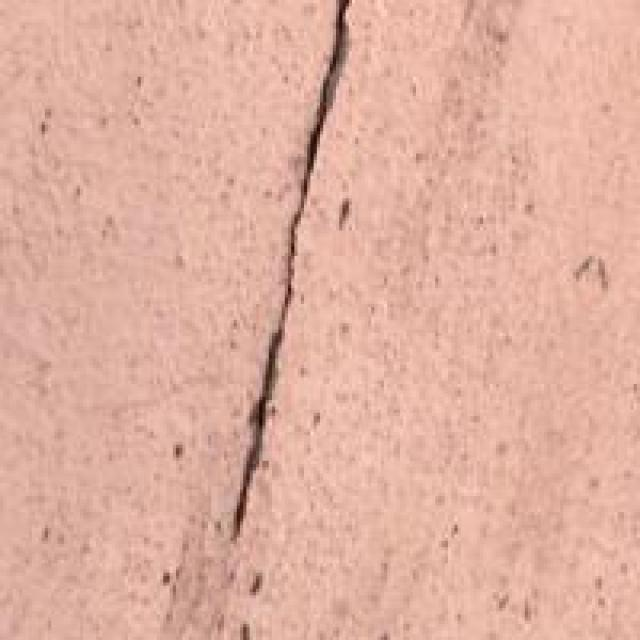Crack: (217, 0, 409, 598)
